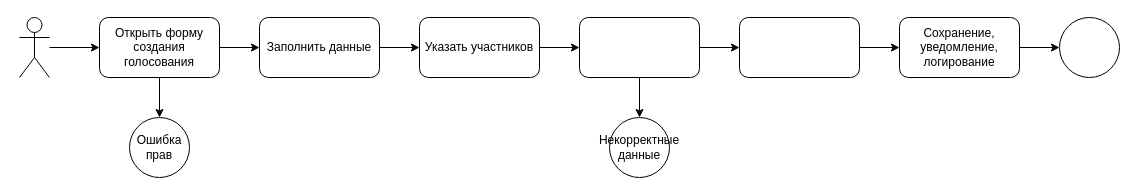
The diagram is 1137 pixels wide and 195 high, and some of its shapes have lost their labels. The shapes that lost their labels are listed below. From the top down, each one's box as (x1, y1, x2, y2) in pixels, then its label:
(18, 16, 50, 78): Admin
(578, 16, 700, 78): Валидация
(738, 16, 860, 78): Опубликовать
